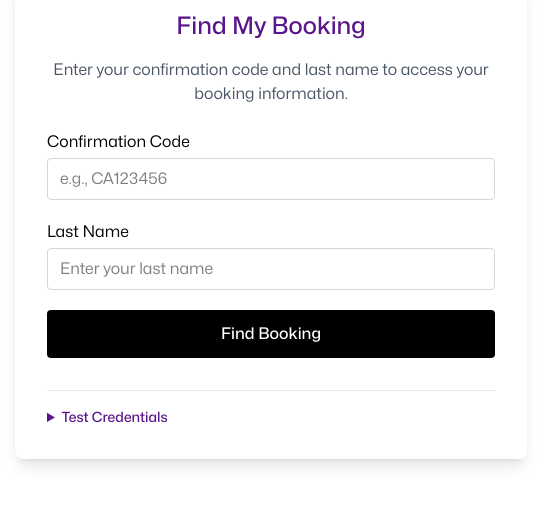
Test case: FindBookingForm › validates last name is not empty
This screenshot has width=543, height=509.
In the field labelled "Confirmation Code": (271, 179) [47,158,495,200], type "CA123456"
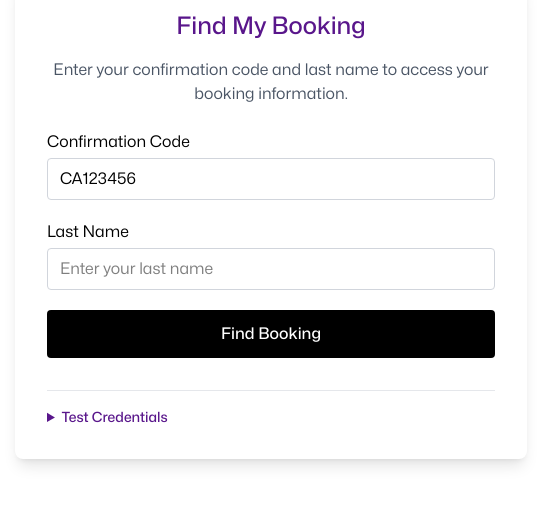
Click the button "Find Booking": (271, 334) [47,310,495,358]
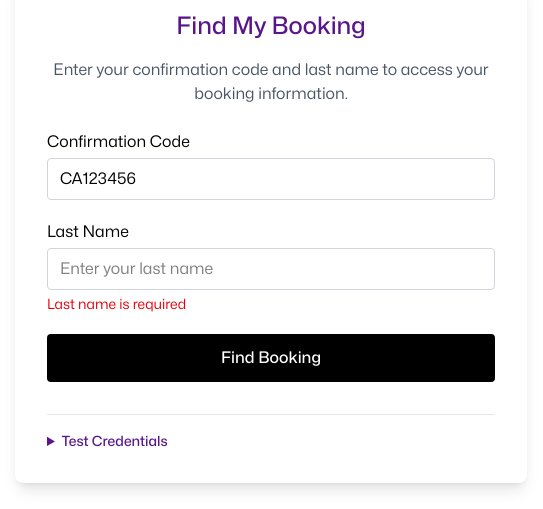
Now the text "Last name is required" is shown, box [47,295,186,312]
